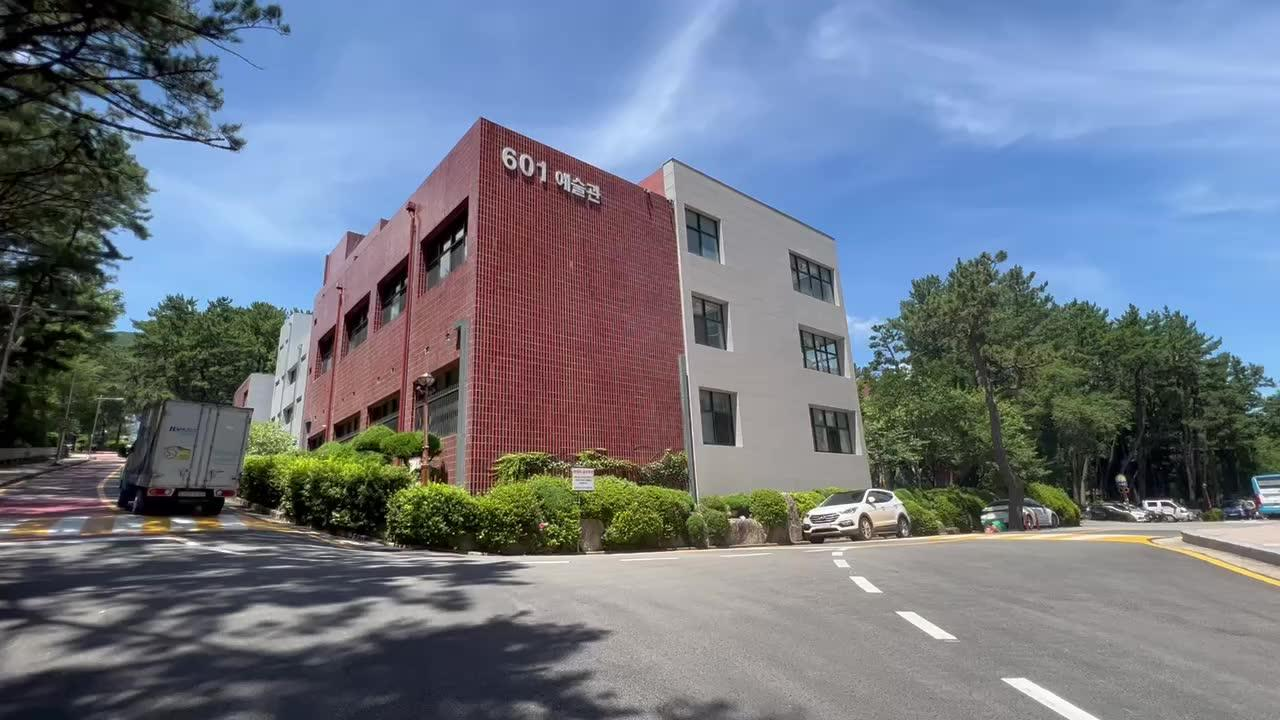building: (280, 119, 864, 464)
